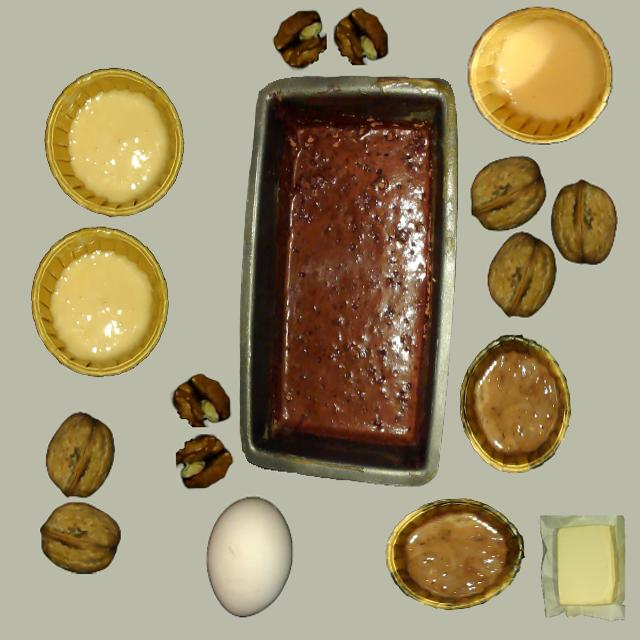Walnut: (45, 413, 115, 498), (487, 233, 557, 317), (40, 502, 120, 574), (471, 156, 545, 230), (552, 182, 616, 263)
